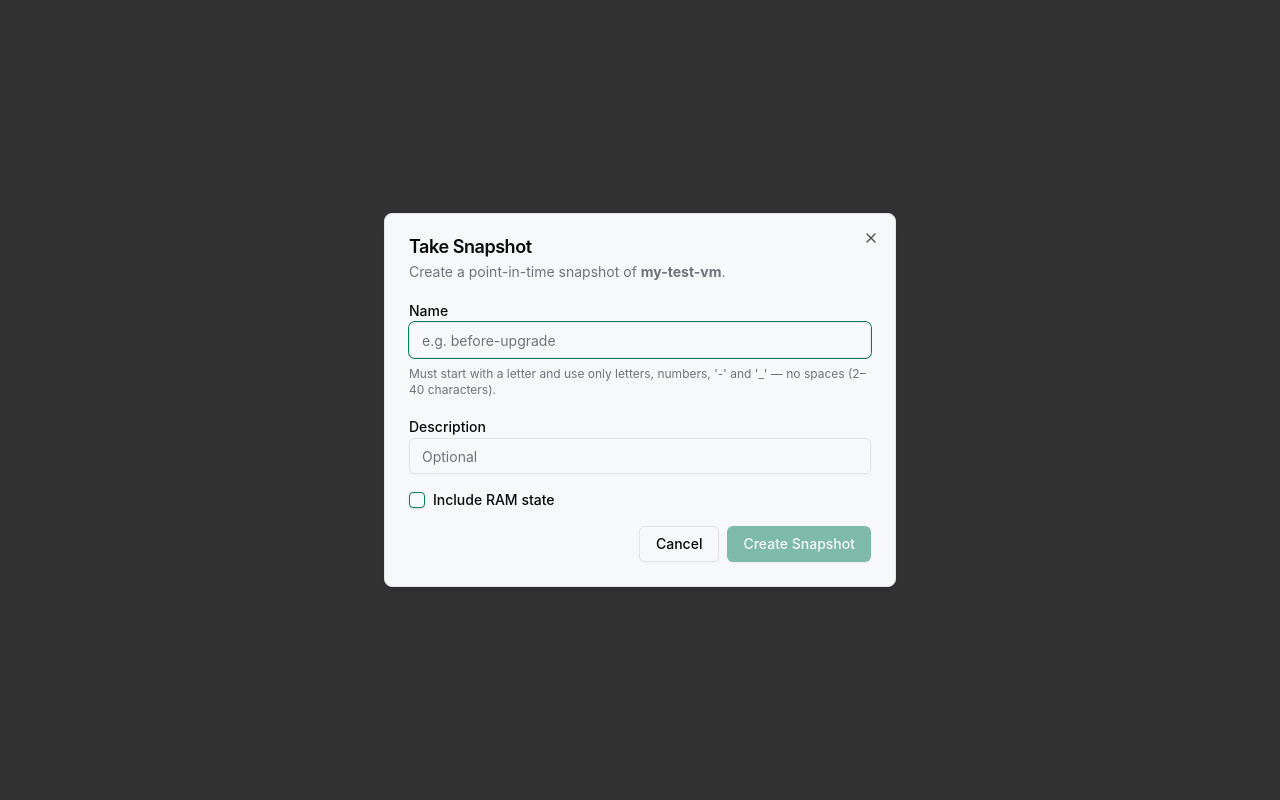
Test case: CreateSnapshotDialog › rejects names with spaces and explains why
Type "my snap" into the field labelled "Name".
click(640, 340); type("my snap")  # box x1=409 y1=322 x2=871 y2=358
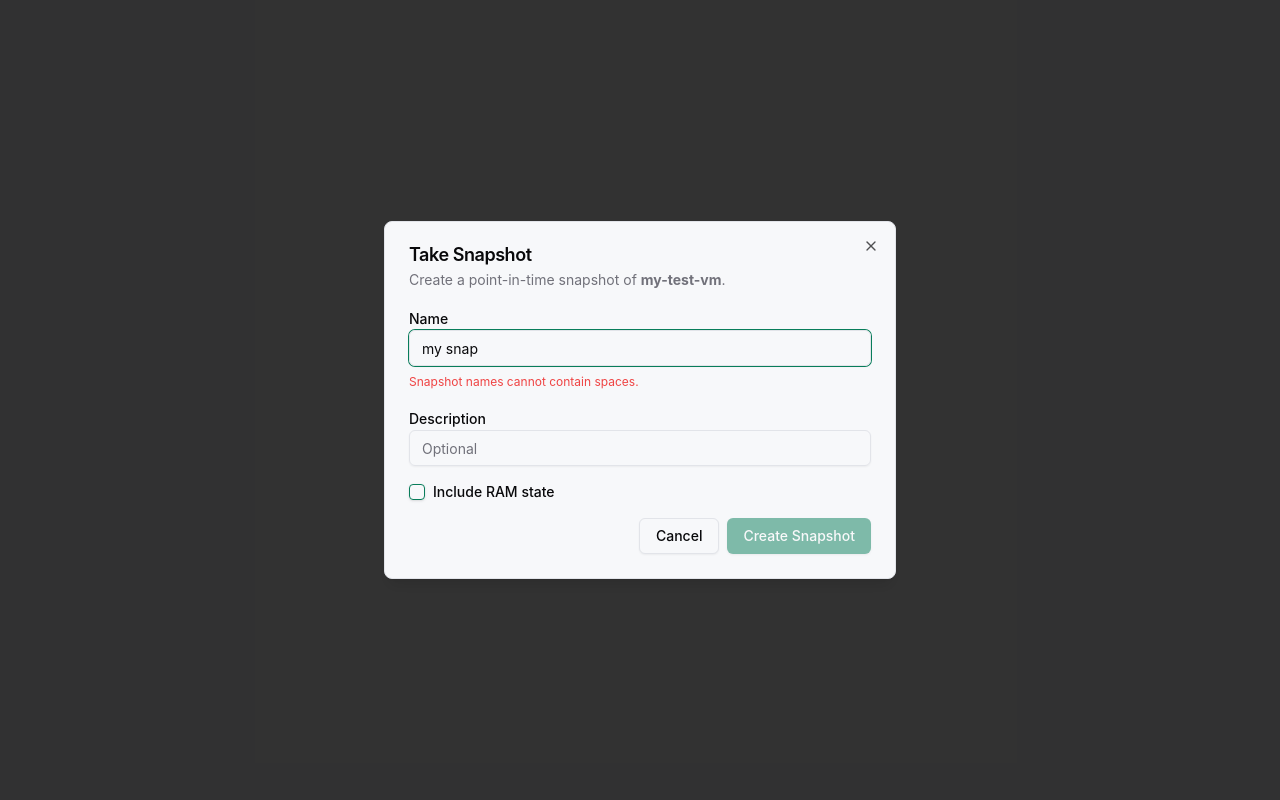
expect the button "Create Snapshot" is disabled: met, box x1=727 y1=518 x2=871 y2=554
expect the text "Snapshot names cannot contain spaces." is shown: met, box x1=409 y1=374 x2=639 y2=389
